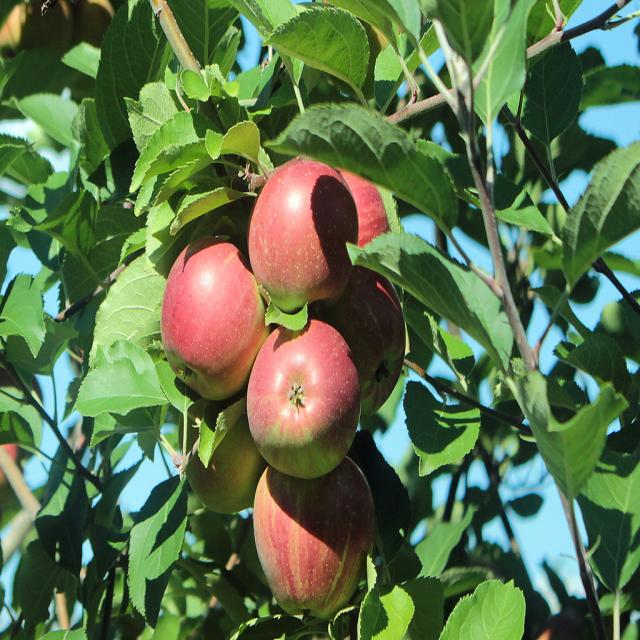Healty Apple: (157, 153, 407, 622), (242, 322, 358, 476)
